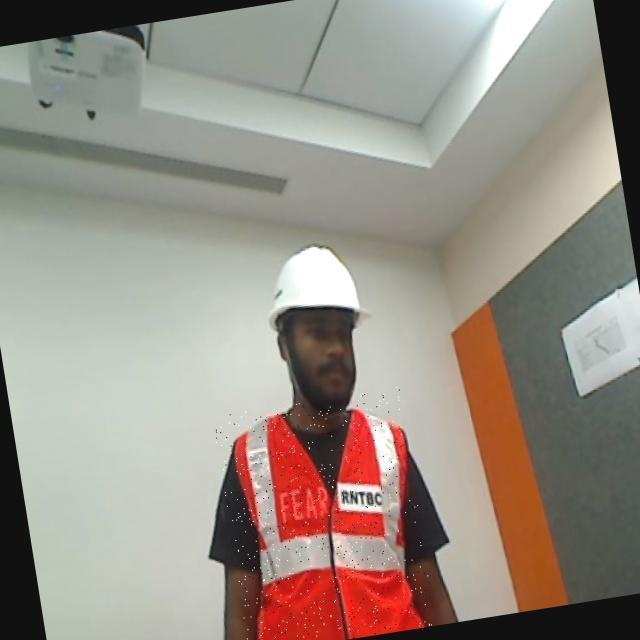helmet: (257, 235, 373, 348)
vest: (211, 386, 437, 640)
